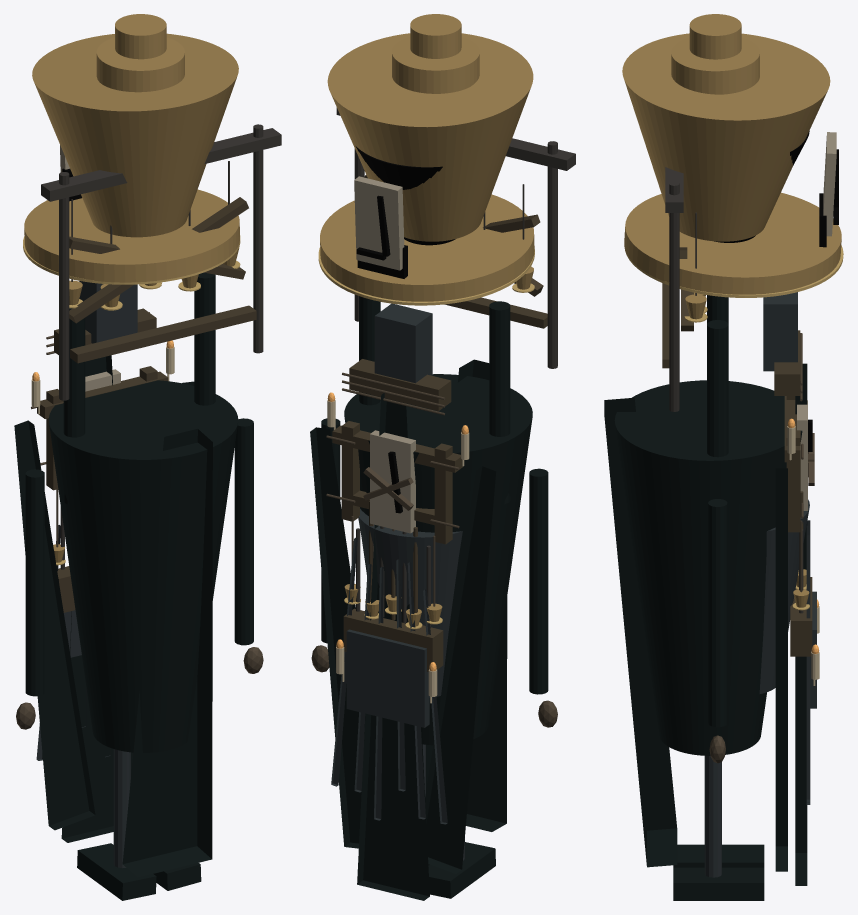
File: bell_saint_v6b_midsection_fix.glb
3 views of the same model, side by side, from view 1: azimuth 30°, elevation 25°; view 2: azimuth 150°, elevation 25°; view 3: azimuth 270°, elevation 25° (orthographic).
Visible parts, largest first — view 1: BS6B_RobeMainCentered, BS6B_BellHead_Main, BS6B_BackTrainCentered, BS6B_BellHeadHeavyMouthRim, BS6B_LeftOuterRobeFall, BS6B_LeftForeSleeve, BS6B_RightForeSleeve, BS6B_FrontCentralBladePanel, BS6B_BellTopCrown, BS6B_BackLowCrossbarCentered, BS6B_BackTopCrossbarCentered, BS6B_RightUpperSleeve (+16 smaller); view 2: BS6B_BellHead_Main, BS6B_RobeMainCentered, BS6B_LeftOuterRobeFall, BS6B_BellHeadHeavyMouthRim, BS6B_FrontCentralBladePanel, BS6B_RightOuterRobeFall, BS6B_LowerAltarFrontPlate, BS6B_BackTrainCentered, BS6B_RobeInnerShadowCentered, BS6B_LeftForeSleeve, BS6B_CentralNeckBlock, BS6B_CenteredWarningPlate (+25 smaller); view 3: BS6B_RobeMainCentered, BS6B_BellHead_Main, BS6B_BellHeadHeavyMouthRim, BS6B_BackTrainCentered, BS6B_RightOuterRobeFall, BS6B_RightForeSleeve, BS6B_BellTopCrown, BS6B_FrontCentralBladePanel, BS6B_RightUpperSleeve, BS6B_RightFoot, BS6B_RobeInnerShadowCentered, BS6B_CentralNeckBlock (+16 smaller).
Boxes of the visible parts, x1,y1,x2,y2 form: BS6B_RobeMainCentered: [48, 380, 238, 752]; BS6B_BellHead_Main: [32, 33, 238, 237]; BS6B_BackTrainCentered: [122, 428, 212, 877]; BS6B_BellHeadHeavyMouthRim: [24, 189, 239, 282]; BS6B_LeftOuterRobeFall: [14, 420, 95, 830]; BS6B_LeftForeSleeve: [25, 469, 44, 696]; BS6B_RightForeSleeve: [234, 418, 253, 645]; BS6B_FrontCentralBladePanel: [61, 355, 113, 842]; BS6B_BellTopCrown: [96, 37, 184, 92]; BS6B_BackLowCrossbarCentered: [70, 305, 256, 363]; BS6B_BackTopCrossbarCentered: [41, 128, 281, 201]; BS6B_RightUpperSleeve: [194, 272, 215, 405]; BS6B_BellHead_Main: [327, 33, 533, 241]; BS6B_RobeMainCentered: [344, 374, 532, 745]; BS6B_LeftOuterRobeFall: [425, 466, 496, 873]; BS6B_BellHeadHeavyMouthRim: [320, 194, 534, 301]; BS6B_FrontCentralBladePanel: [357, 393, 429, 900]; BS6B_RightOuterRobeFall: [310, 427, 365, 848]; BS6B_LowerAltarFrontPlate: [346, 629, 429, 727]; BS6B_BackTrainCentered: [426, 359, 507, 831]; BS6B_RobeInnerShadowCentered: [358, 508, 462, 697]; BS6B_LeftForeSleeve: [529, 468, 548, 694]; BS6B_CentralNeckBlock: [374, 303, 432, 383]; BS6B_CenteredWarningPlate: [354, 176, 404, 270]; BS6B_RobeMainCentered: [614, 380, 802, 755]; BS6B_BellHead_Main: [622, 33, 830, 241]; BS6B_BellHeadHeavyMouthRim: [624, 192, 841, 294]; BS6B_BackTrainCentered: [604, 397, 677, 867]; BS6B_RightOuterRobeFall: [775, 468, 787, 871]; BS6B_RightForeSleeve: [708, 499, 727, 727]; BS6B_BellTopCrown: [671, 37, 759, 94]; BS6B_FrontCentralBladePanel: [795, 363, 807, 885]; BS6B_RightUpperSleeve: [707, 320, 728, 457]; BS6B_RightFoot: [673, 867, 764, 900]; BS6B_RobeInnerShadowCentered: [759, 499, 809, 693]; BS6B_CentralNeckBlock: [763, 292, 797, 371].
Bounding box in the file's own units: 1.32 × 4.36 × 1.1.
